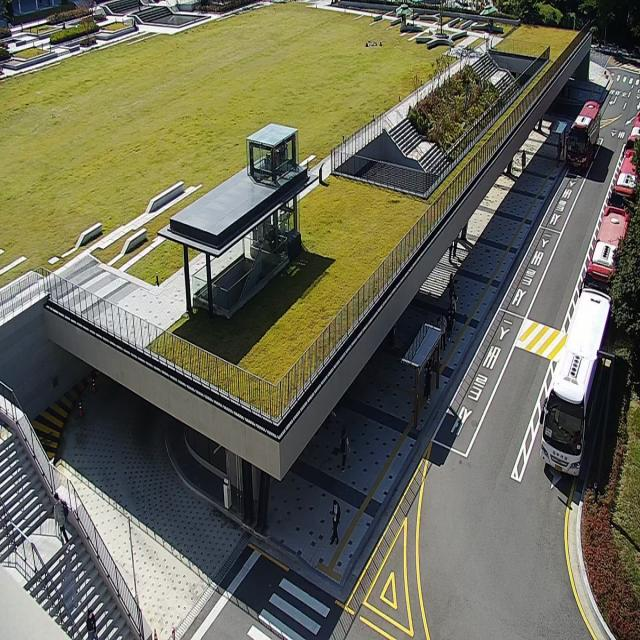queue: (414, 271, 456, 431)
